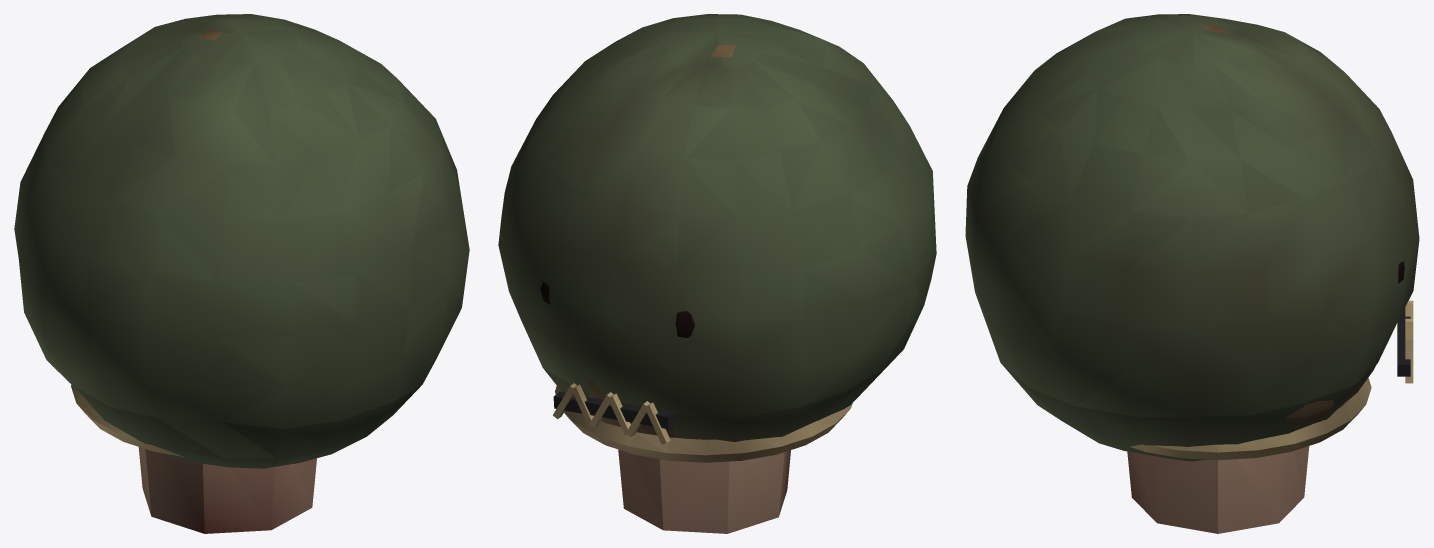
File: HunterHead.glb
3 renders of one model, left to right at view 1: azimuth 30°, elevation 25°; view 2: azimuth 150°, elevation 25°; view 3: azimuth 270°, elevation 25°, orthographic. The views are drawn at different scales.
Visible parts, largest first — view 1: HunterHead_canvas, HunterHead_skinHunter, HunterHead_rope; view 2: HunterHead_canvas, HunterHead_skinHunter, HunterHead_rope, HunterHead_metal_dark, HunterHead_burlap, HunterHead_maw; view 3: HunterHead_canvas, HunterHead_skinHunter, HunterHead_rope, HunterHead_burlap, HunterHead_metal_dark.
Part boxes in pixels (x1=…): HunterHead_canvas: x1=14, y1=14, x2=469, y2=468; HunterHead_skinHunter: x1=138, y1=447, x2=316, y2=533; HunterHead_rope: x1=71, y1=385, x2=183, y2=456; HunterHead_canvas: x1=498, y1=14, x2=936, y2=441; HunterHead_skinHunter: x1=618, y1=449, x2=790, y2=533; HunterHead_rope: x1=553, y1=383, x2=852, y2=462; HunterHead_metal_dark: x1=553, y1=391, x2=674, y2=429; HunterHead_burlap: x1=552, y1=45, x2=735, y2=437; HunterHead_maw: x1=540, y1=281, x2=695, y2=337; HunterHead_canvas: x1=965, y1=14, x2=1419, y2=461; HunterHead_skinHunter: x1=1127, y1=446, x2=1309, y2=533; HunterHead_rope: x1=1130, y1=300, x2=1413, y2=460; HunterHead_burlap: x1=1200, y1=25, x2=1375, y2=428; HunterHead_metal_dark: x1=1397, y1=307, x2=1410, y2=376.
Bounding box in the file's own units: 1.67 × 1.91 × 1.68.
